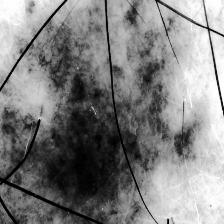Benign Marking or Mole: (50, 0, 170, 214)
